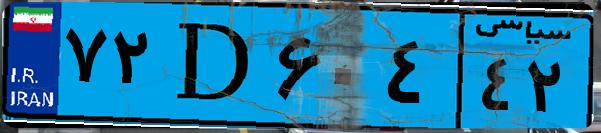0: (330, 28, 385, 110)
2: (525, 38, 570, 115), (110, 28, 158, 98)
4: (385, 28, 445, 110), (475, 38, 525, 113)
6: (270, 28, 330, 110)
7: (57, 26, 110, 100)
D: (158, 12, 270, 120)
